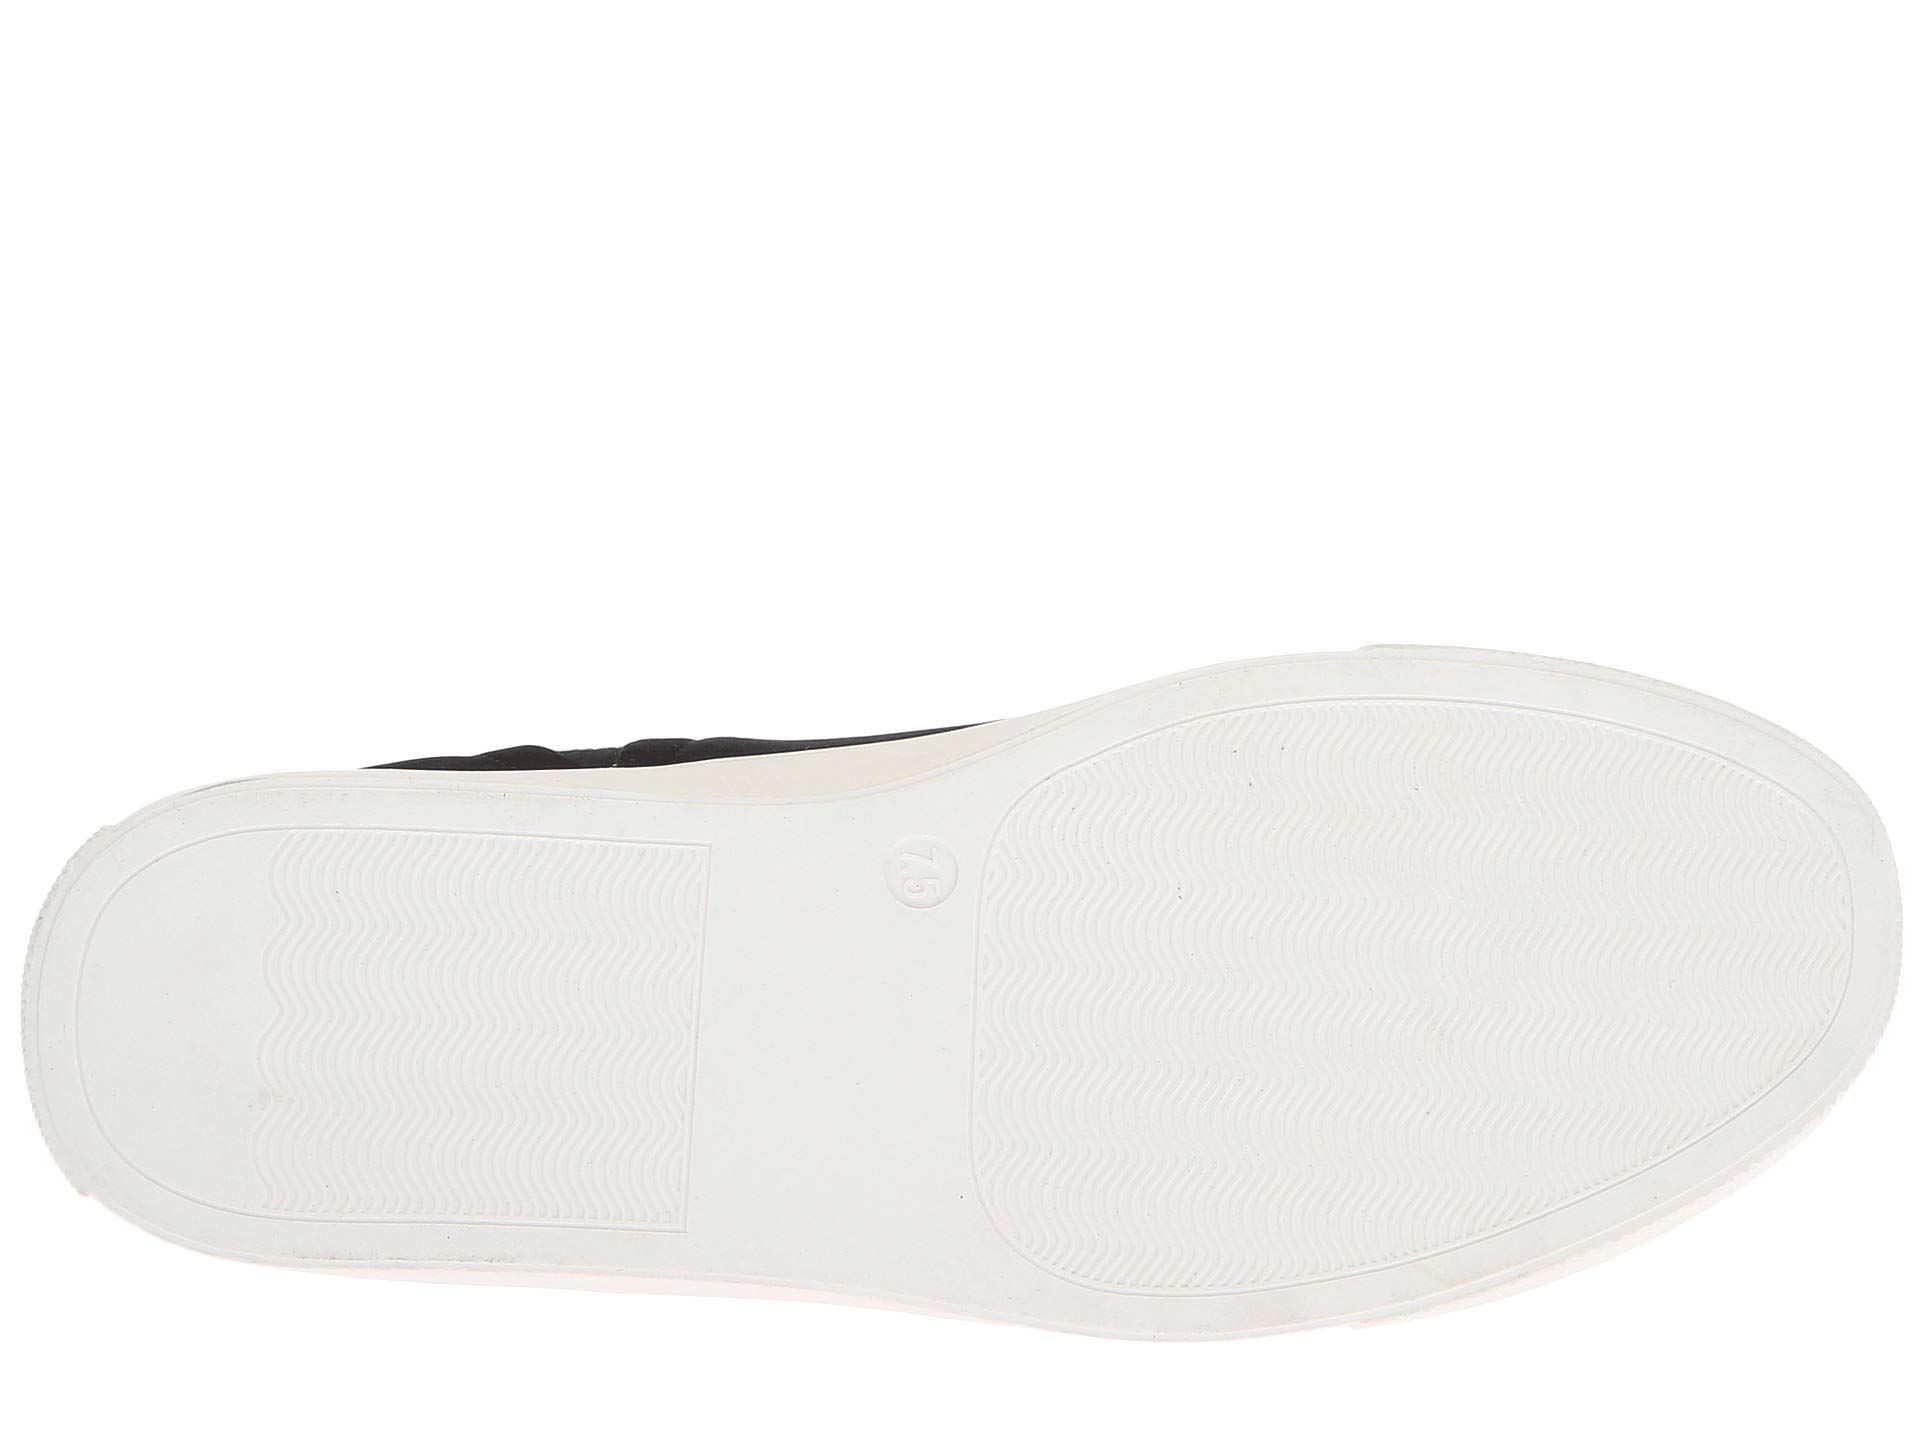chevron: (1167, 753, 1661, 1162), (240, 839, 679, 1178)
circle: (862, 811, 974, 933)
text: (862, 811, 974, 933)
